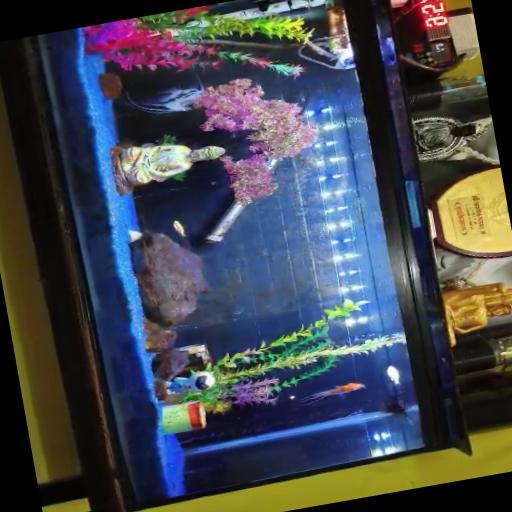Fish: (125, 74, 203, 113), (301, 382, 364, 403), (171, 220, 190, 248), (171, 220, 185, 237)
